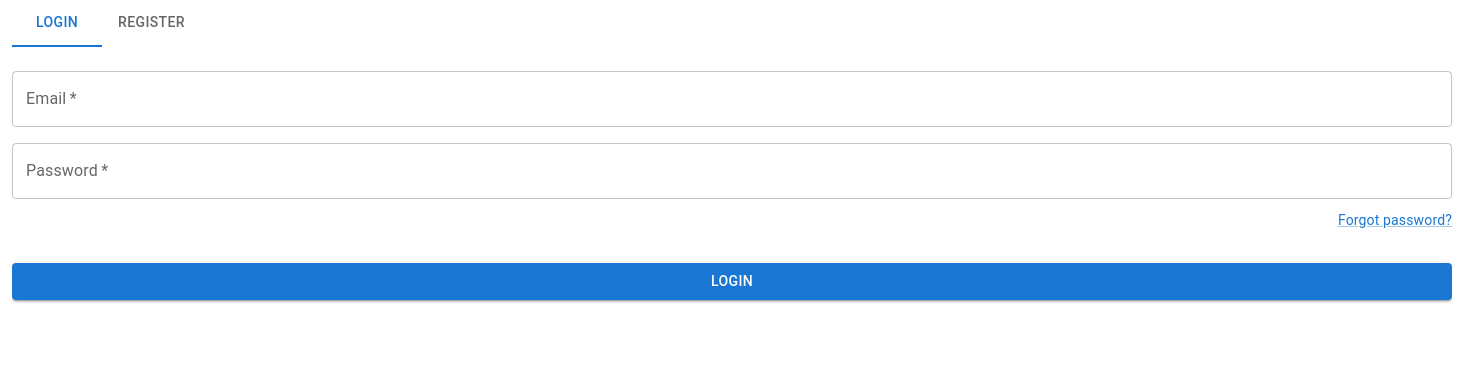
Test: LoginForm › should handle GraphQL errors
Type "test@example.com" into the field labelled "Email *" at (732, 99), box 12,71 -> 1452,127
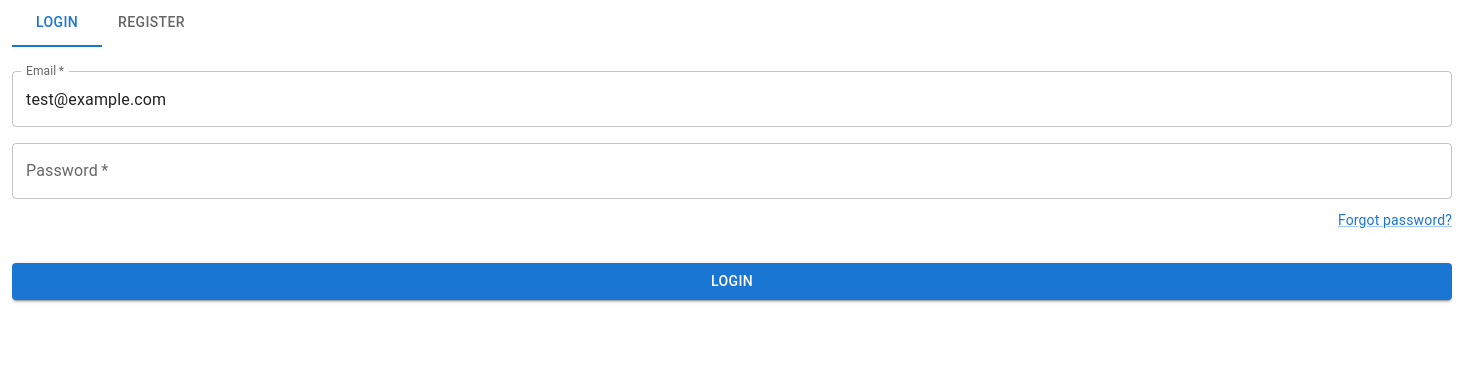
Type "password123" into the password field labelled "Password *" at (732, 171), box 12,143 -> 1452,199
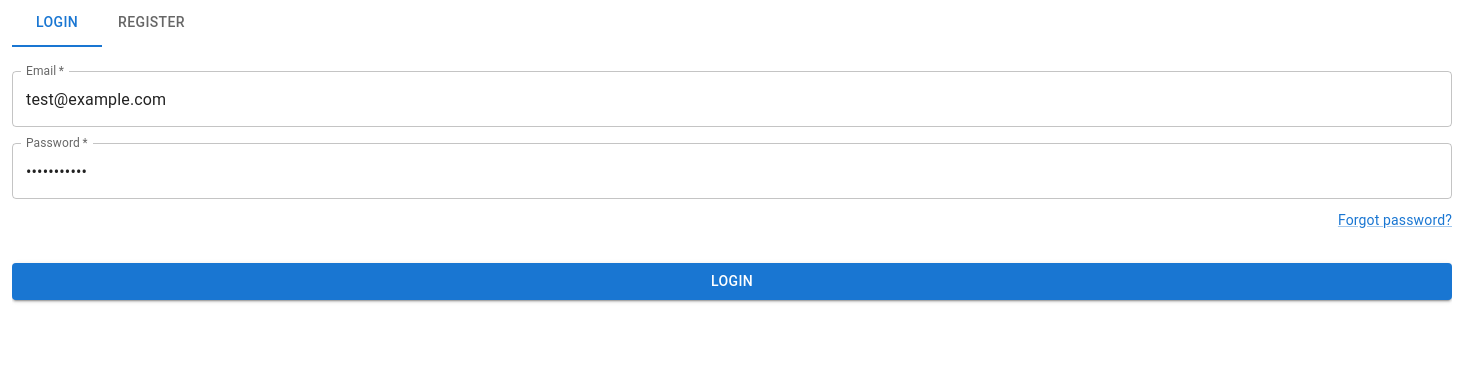
Click the button "Login" at (732, 281), box 12,263 -> 1452,300
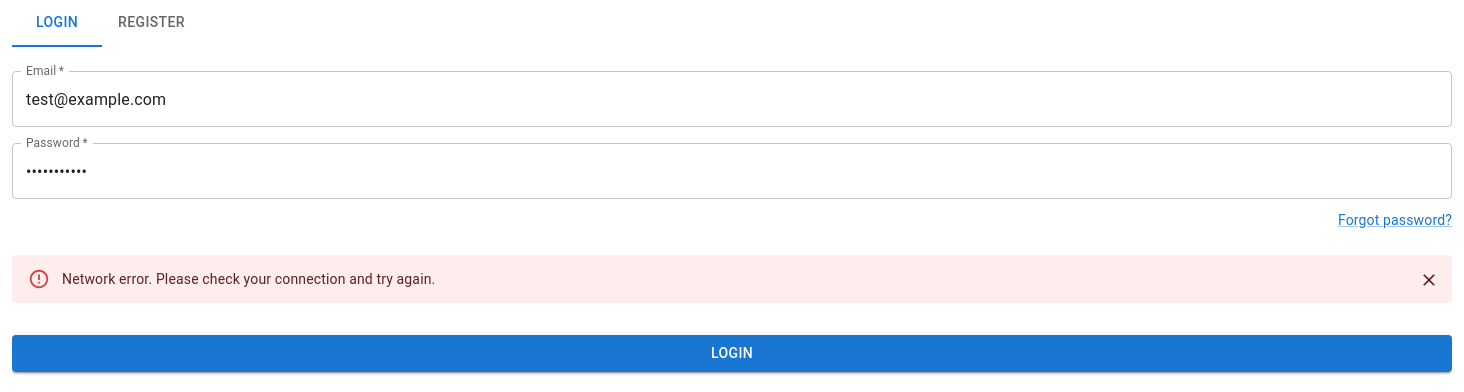
Expected: the message "Network error. Please check your connection and try again." is shown, 12,255 -> 1452,303
Expected: the message reads "Network error. Please check your connection and try again.", 62,271 -> 435,287
